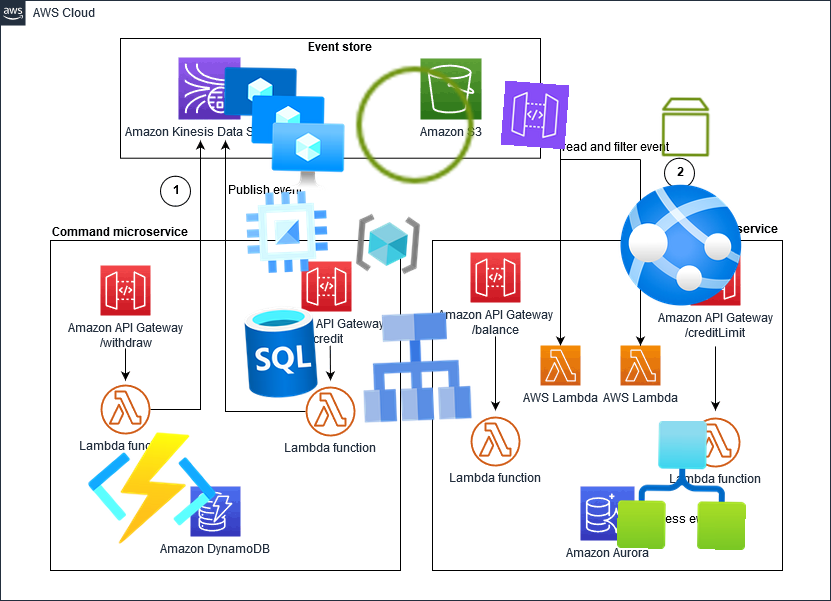aws_amazon_api_gateway: (500, 80, 570, 150)
aws_elastic_block_store_volume: (653, 94, 719, 160)
aws_simple_storage_service_object: (350, 60, 480, 190)
azure_app_services: (616, 180, 746, 310)
azure_function_apps: (83, 420, 221, 558)
azure_logic_apps: (617, 420, 747, 550)
azure_resource_groups: (353, 209, 423, 279)
azure_sql_database: (229, 300, 333, 404)
azure_vm_scale_sets: (216, 60, 348, 192)
gcp_cloud_load_balancing: (349, 300, 483, 434)
gcp_compute_engine: (236, 181, 338, 283)
